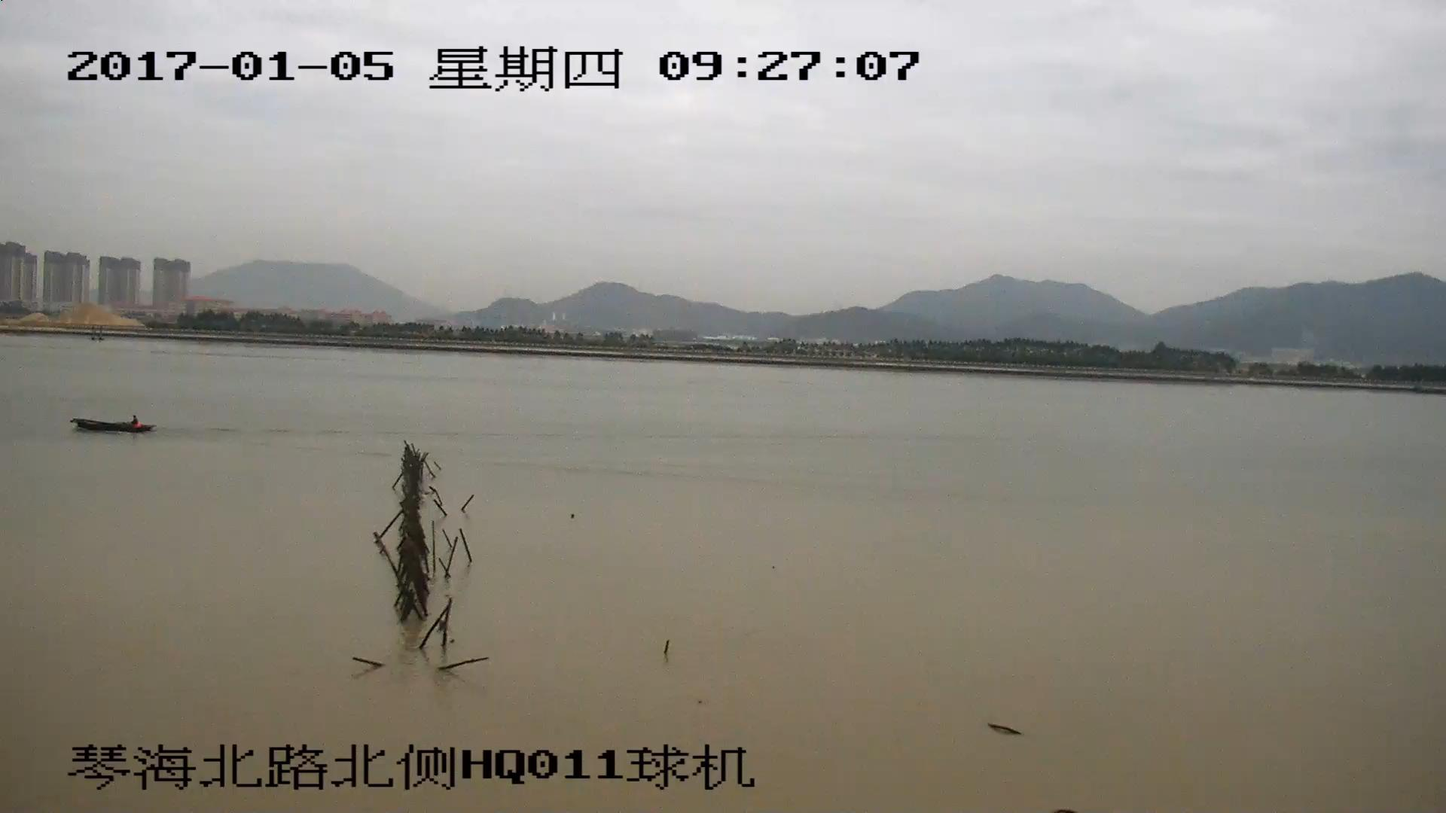fishing boat: (69, 413, 148, 431)
